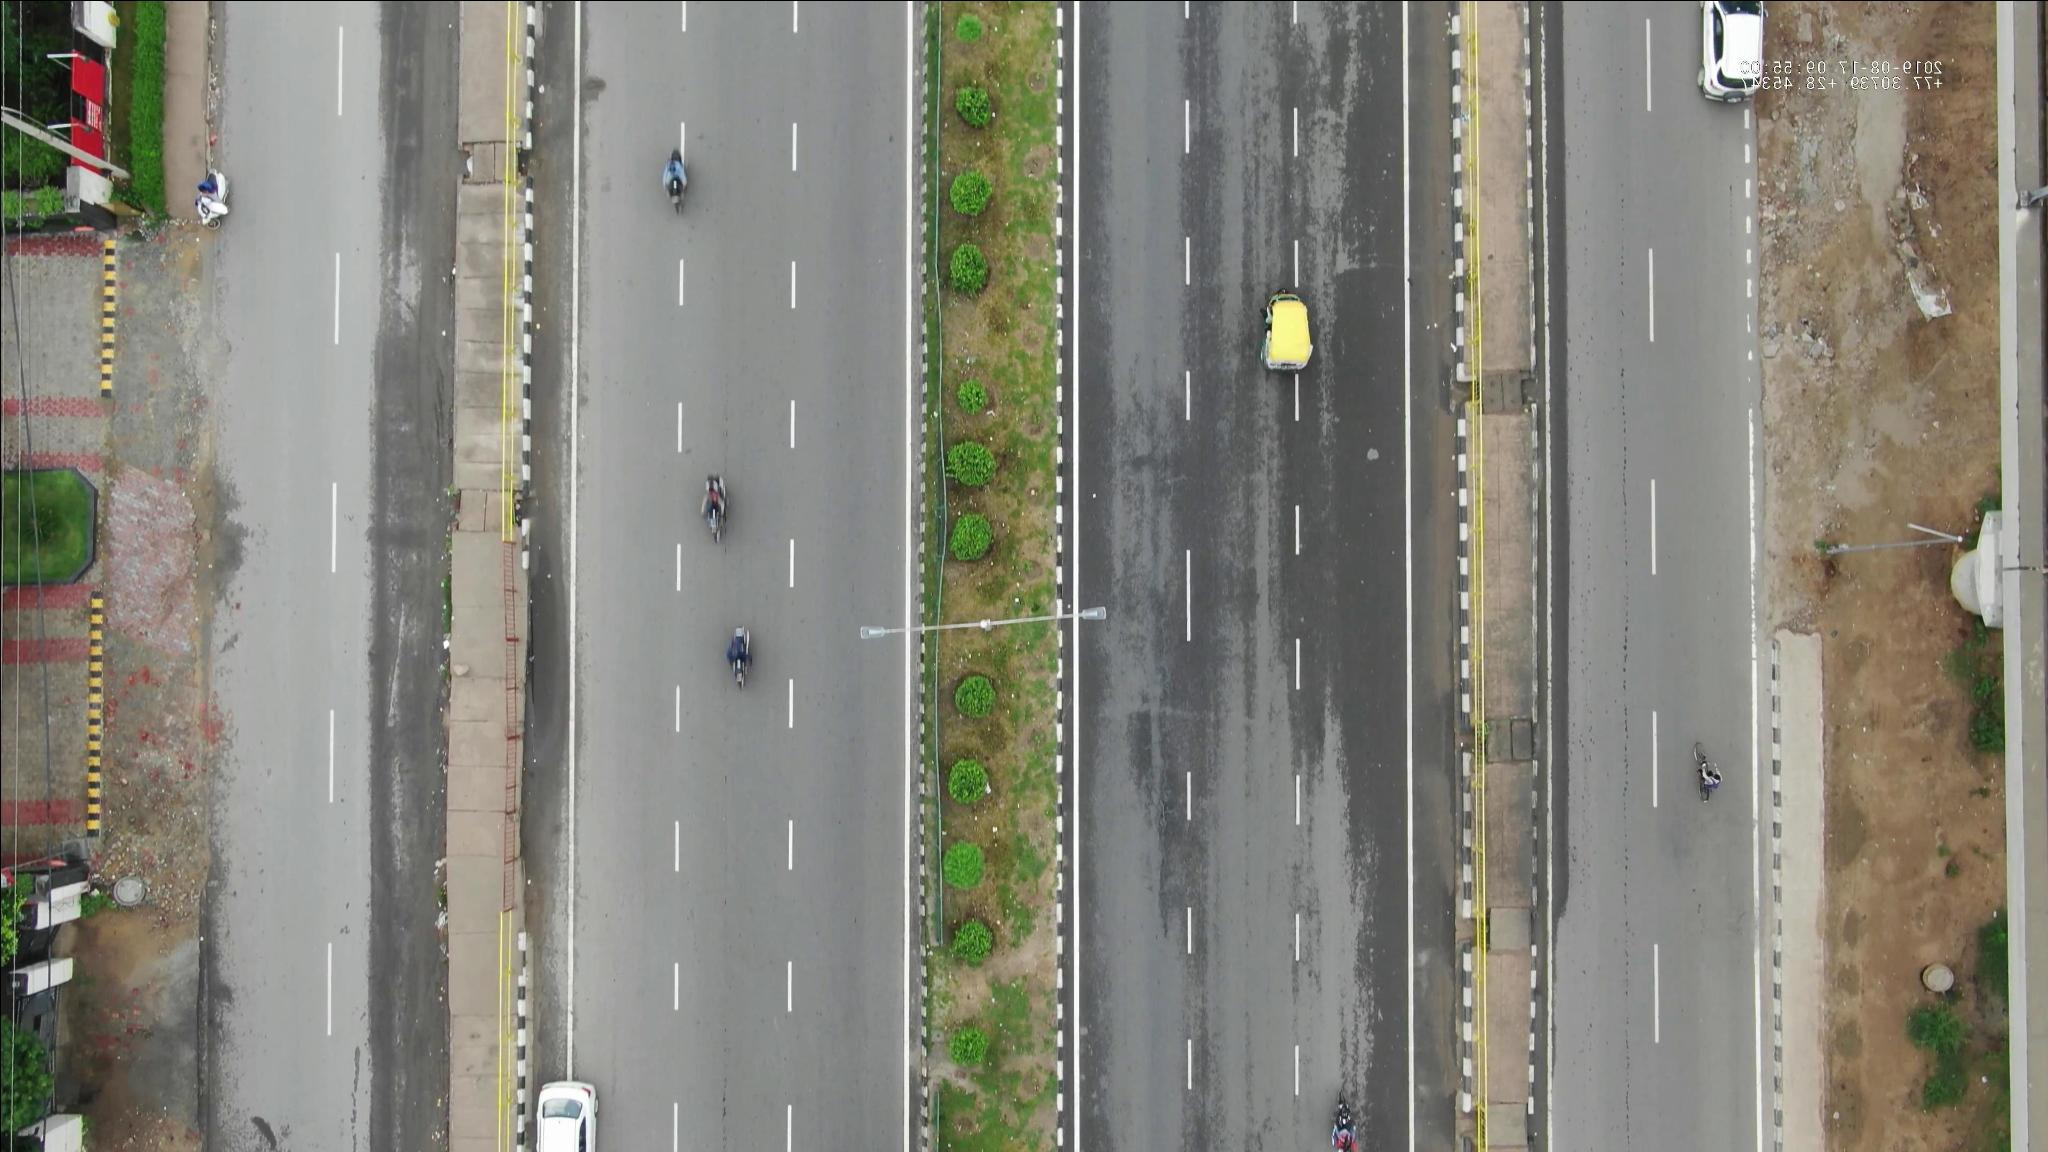Muddy_road: (196, 478, 238, 619)
